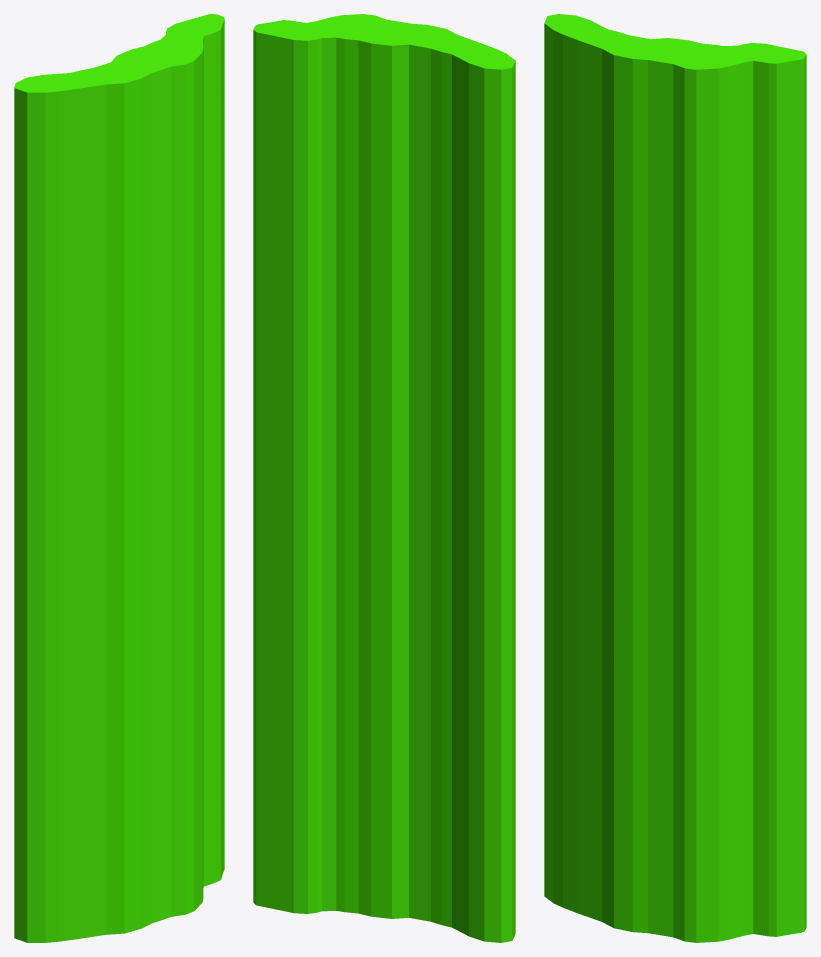
Rendered from wood_area0106.dae.
The picture shows the model from 3 angles, left to right: view 1: azimuth 30°, elevation 25°; view 2: azimuth 150°, elevation 25°; view 3: azimuth 330°, elevation 25°; orthographic projection. The views are drawn at different scales.
Parts seen in each view (by area): view 1: Object_002; view 2: Object_002; view 3: Object_002.
Part boxes in pixels (bbox=[...]): Object_002: bbox=[14, 14, 224, 942]; Object_002: bbox=[253, 14, 515, 942]; Object_002: bbox=[544, 14, 806, 942].
Bounding box in the file's own units: 105 × 39.2 × 370.
